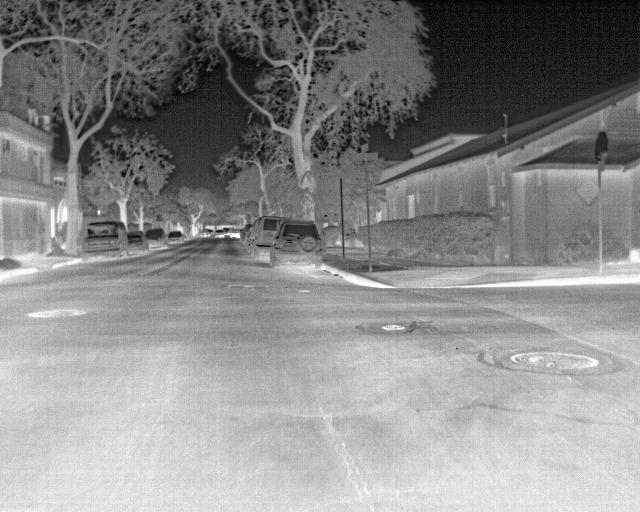bicycle: (270, 221, 322, 270), (251, 217, 291, 261), (83, 221, 128, 259), (144, 227, 167, 249), (127, 230, 148, 253), (166, 230, 185, 244), (227, 228, 242, 240), (212, 228, 226, 240)
